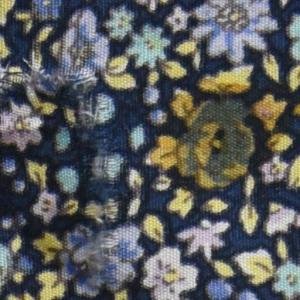Damage: (1, 48, 124, 300)
Oil Stain: (146, 78, 300, 200)
